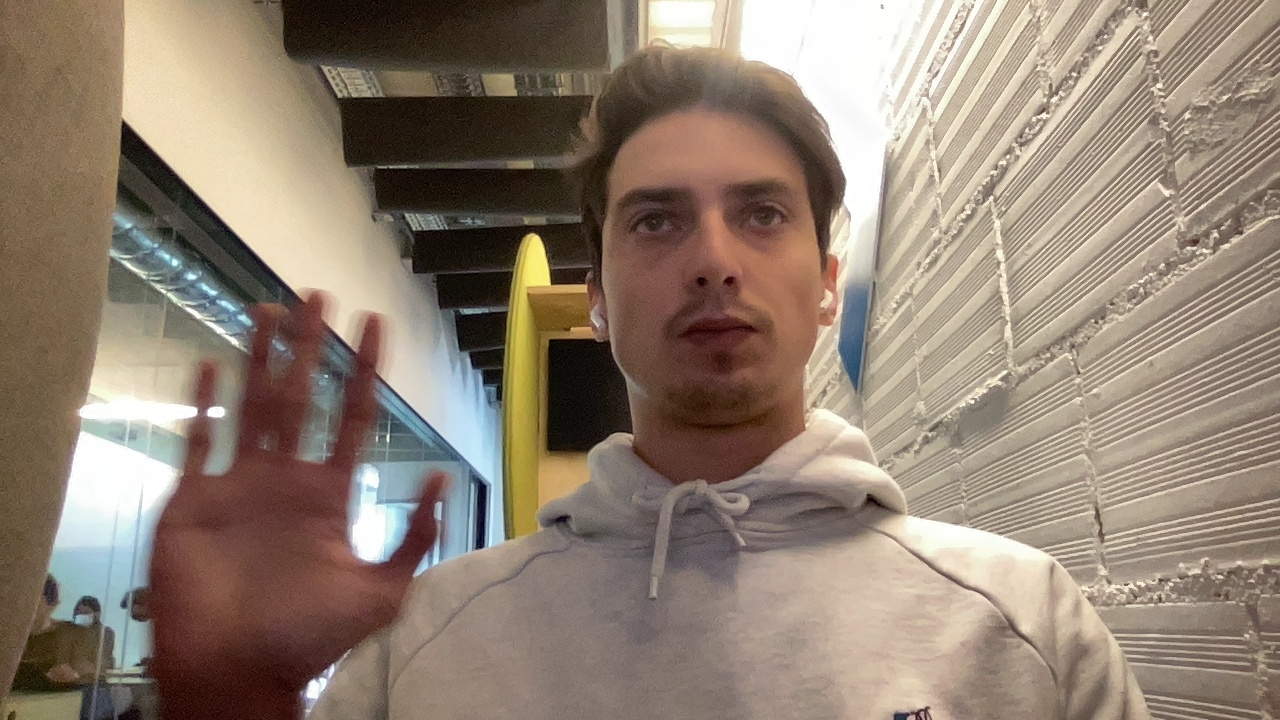Hello: (106, 295, 437, 682)
